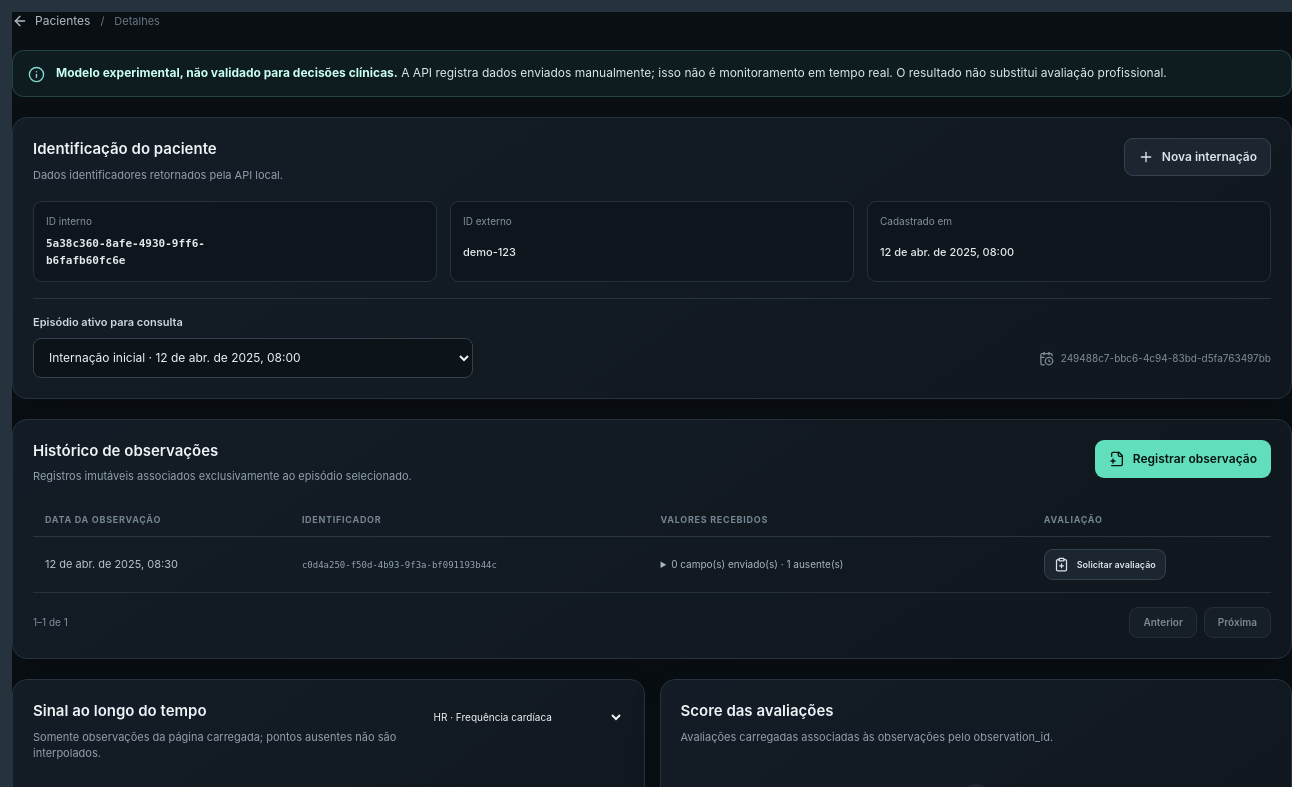
fluxos da aplicação › comunica explicitamente quando a inferência retorna 503
The image size is (1292, 787).
Click the button with aria-label "Solicitar avaliação para observação".
click(1105, 564)  # box [1044,549,1166,580]
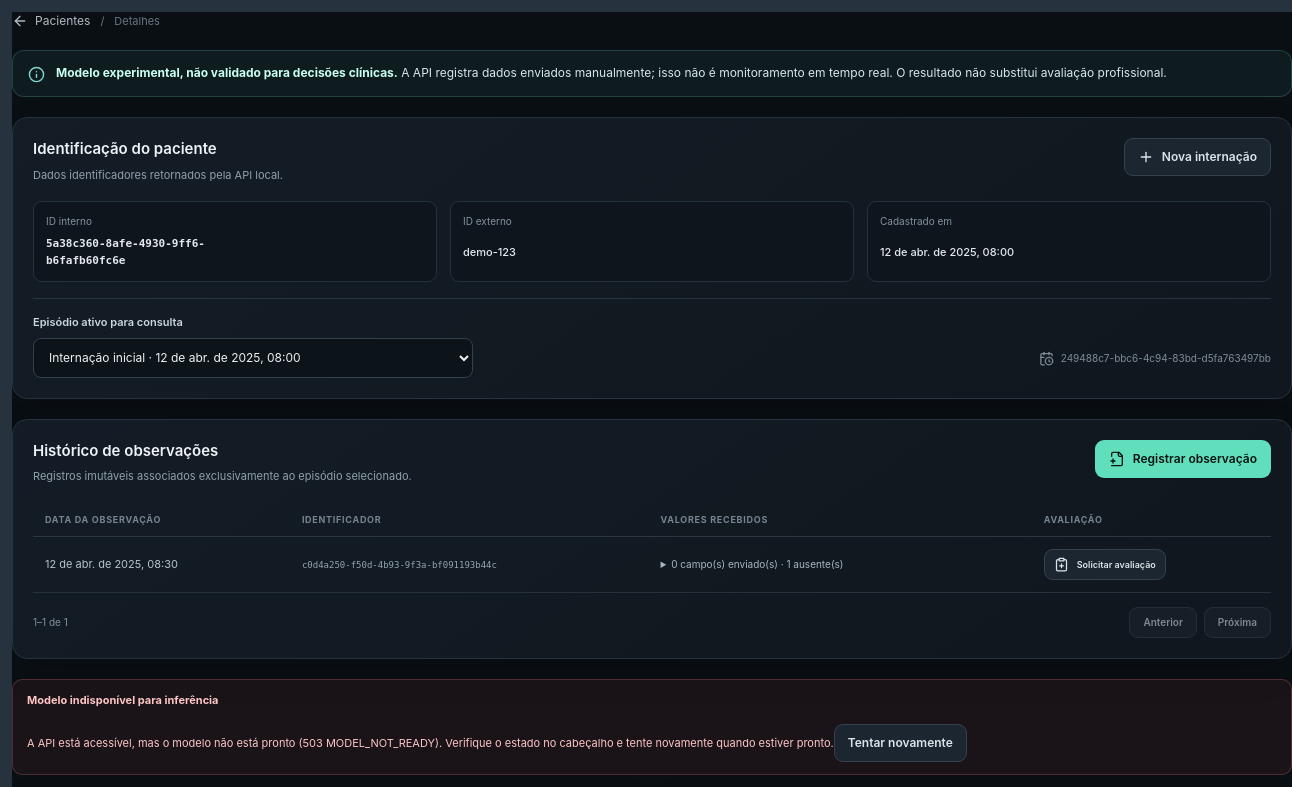
Now the text "Modelo indisponível para inferência" is shown, box [27,693,218,707]
Now the text "503 MODEL_NOT_READY" is shown, box [27,736,834,750]
